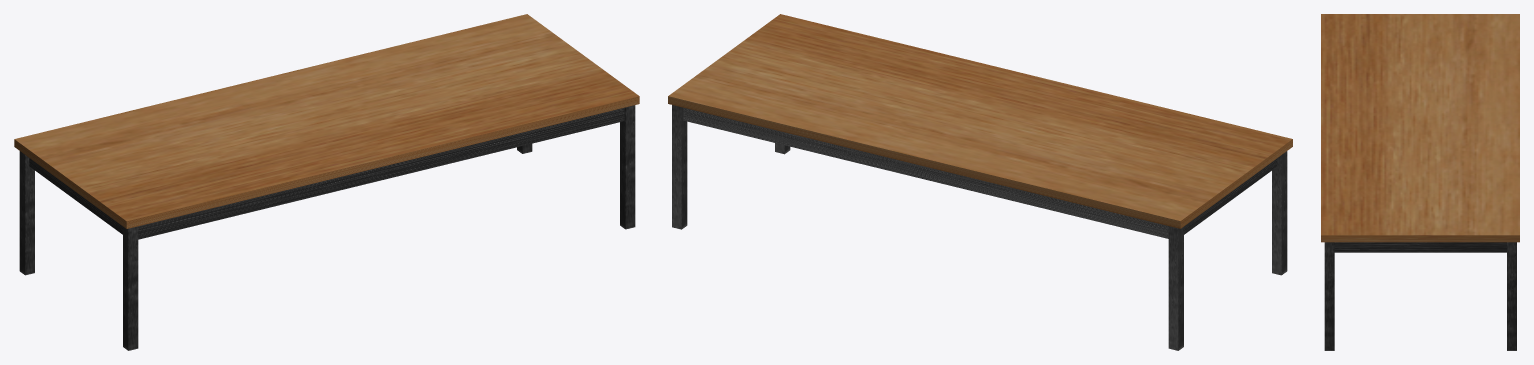
Rendered from Table.fbx.
3 views of the same model, side by side, from view 1: azimuth 30°, elevation 25°; view 2: azimuth 150°, elevation 25°; view 3: azimuth 270°, elevation 25° (orthographic). The views are drawn at different scales.
Parts seen in each view (by area): view 1: pCube4; view 2: pCube4; view 3: pCube4.
Part boxes in pixels (x1,y1,x2,y2): pCube4: (14, 14, 639, 350); pCube4: (668, 14, 1292, 350); pCube4: (1321, 14, 1519, 350).
Size of the model in its own units: 5.27 by 1.3 by 2.
Materials: 2 (2 with a texture image).
